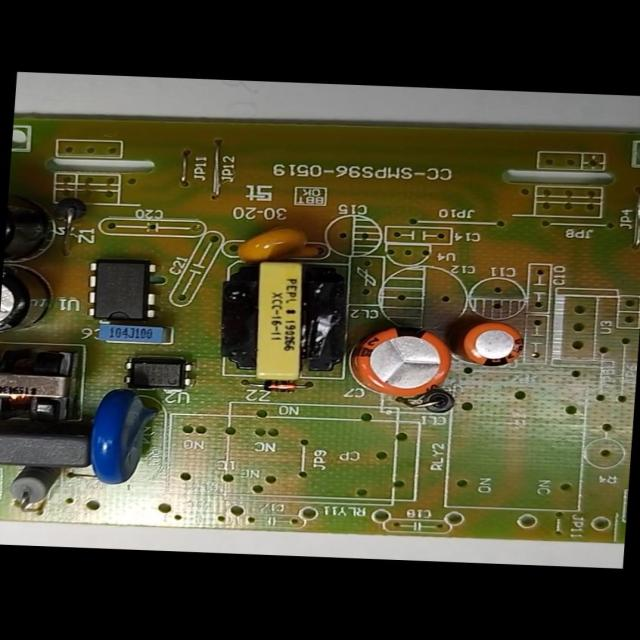Cap1: (341, 315, 458, 406)
Cap2: (440, 309, 534, 376)
Cap3: (0, 257, 62, 345)
Cap4: (4, 191, 70, 270)
MOSFET: (78, 250, 163, 325)
Mov: (82, 382, 164, 492)
Resistor: (0, 462, 62, 520)
Transformer: (216, 254, 356, 385), (0, 344, 83, 428)
